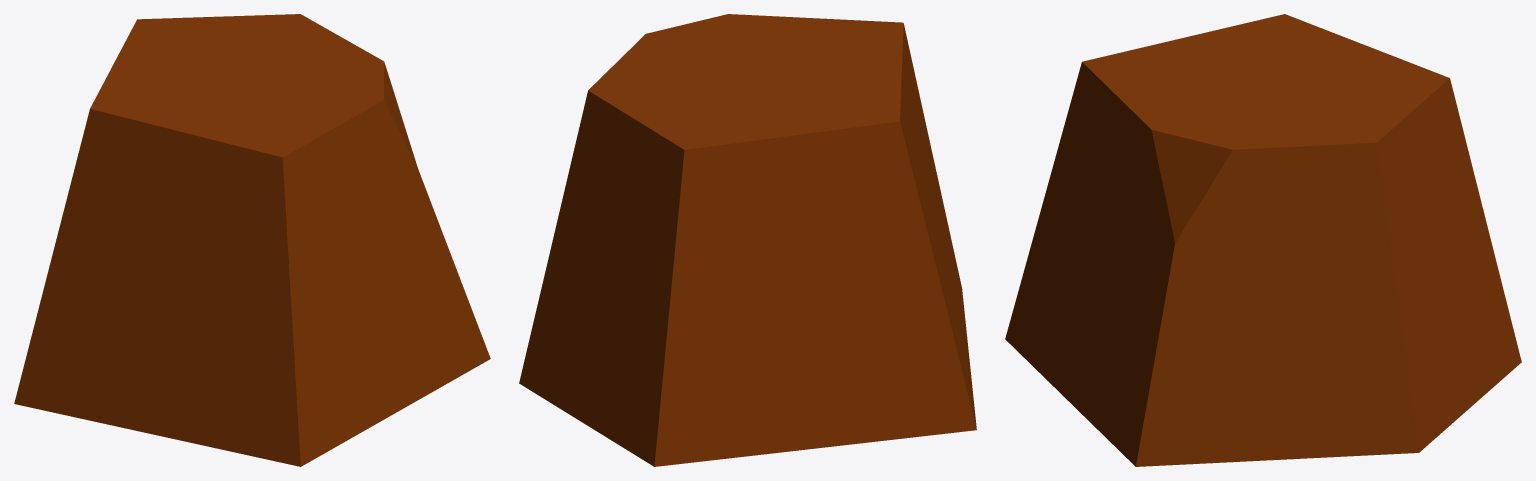
File: stone3.fbx
The picture shows the model from 3 angles, left to right: view 1: azimuth 30°, elevation 25°; view 2: azimuth 150°, elevation 25°; view 3: azimuth 270°, elevation 25°; orthographic projection. The views are drawn at different scales.
Parts seen in each view (by area): view 1: stone3; view 2: stone3; view 3: stone3.
Boxes of the visible parts, bbox=[...] form: stone3: bbox=[14, 14, 490, 466]; stone3: bbox=[519, 14, 976, 466]; stone3: bbox=[1005, 14, 1521, 466].
Bounding box in the file's own units: 97.75 × 64.24 × 105.
